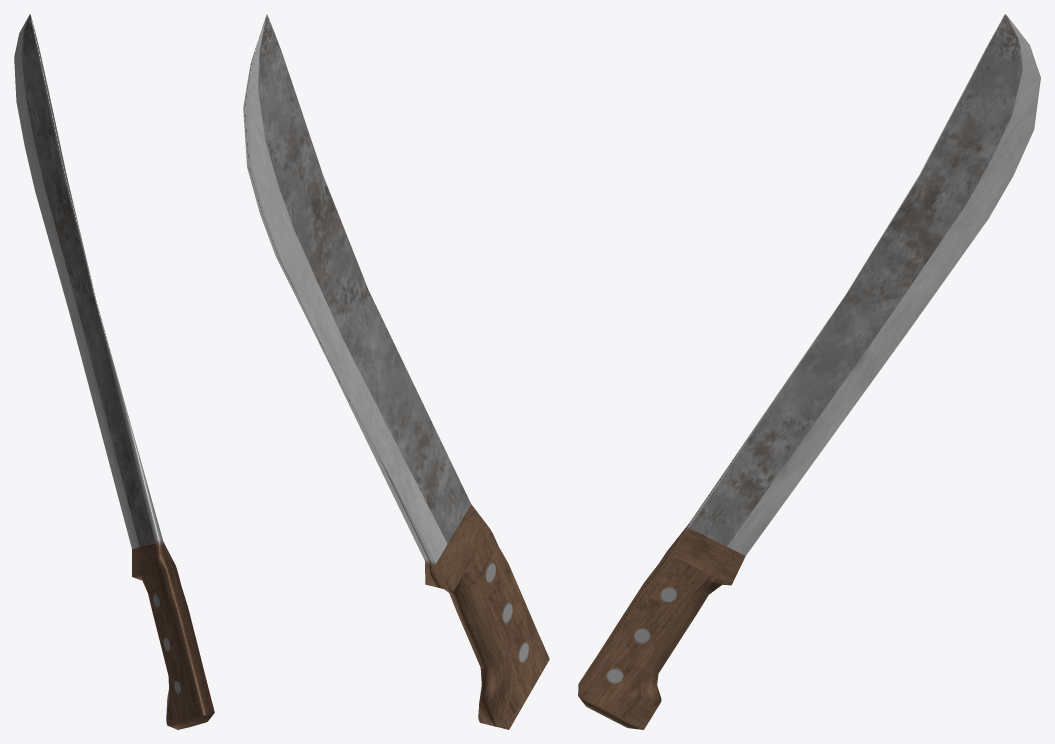
Rendered from machete_low_poly.glb.
3 views of the same model, side by side, from view 1: azimuth 30°, elevation 25°; view 2: azimuth 150°, elevation 25°; view 3: azimuth 270°, elevation 25° (orthographic). The views are drawn at different scales.
Visible parts, largest first — view 1: Cubo; view 2: Cubo; view 3: Cubo.
Part boxes in pixels (x1=…): Cubo: x1=14, y1=14, x2=214, y2=729; Cubo: x1=243, y1=14, x2=549, y2=729; Cubo: x1=578, y1=14, x2=1040, y2=729.
Bounding box in the file's own units: 22.12 × 602 × 354.
Materials: 1 (1 with a texture image).
